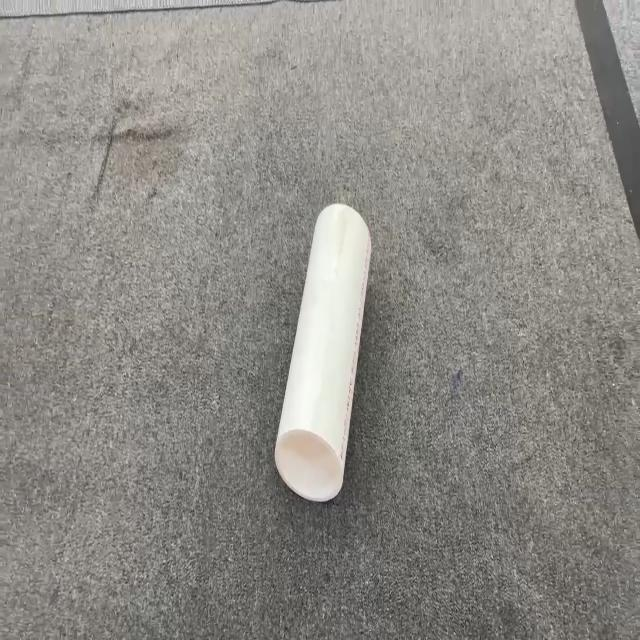coral: (274, 201, 372, 502)
